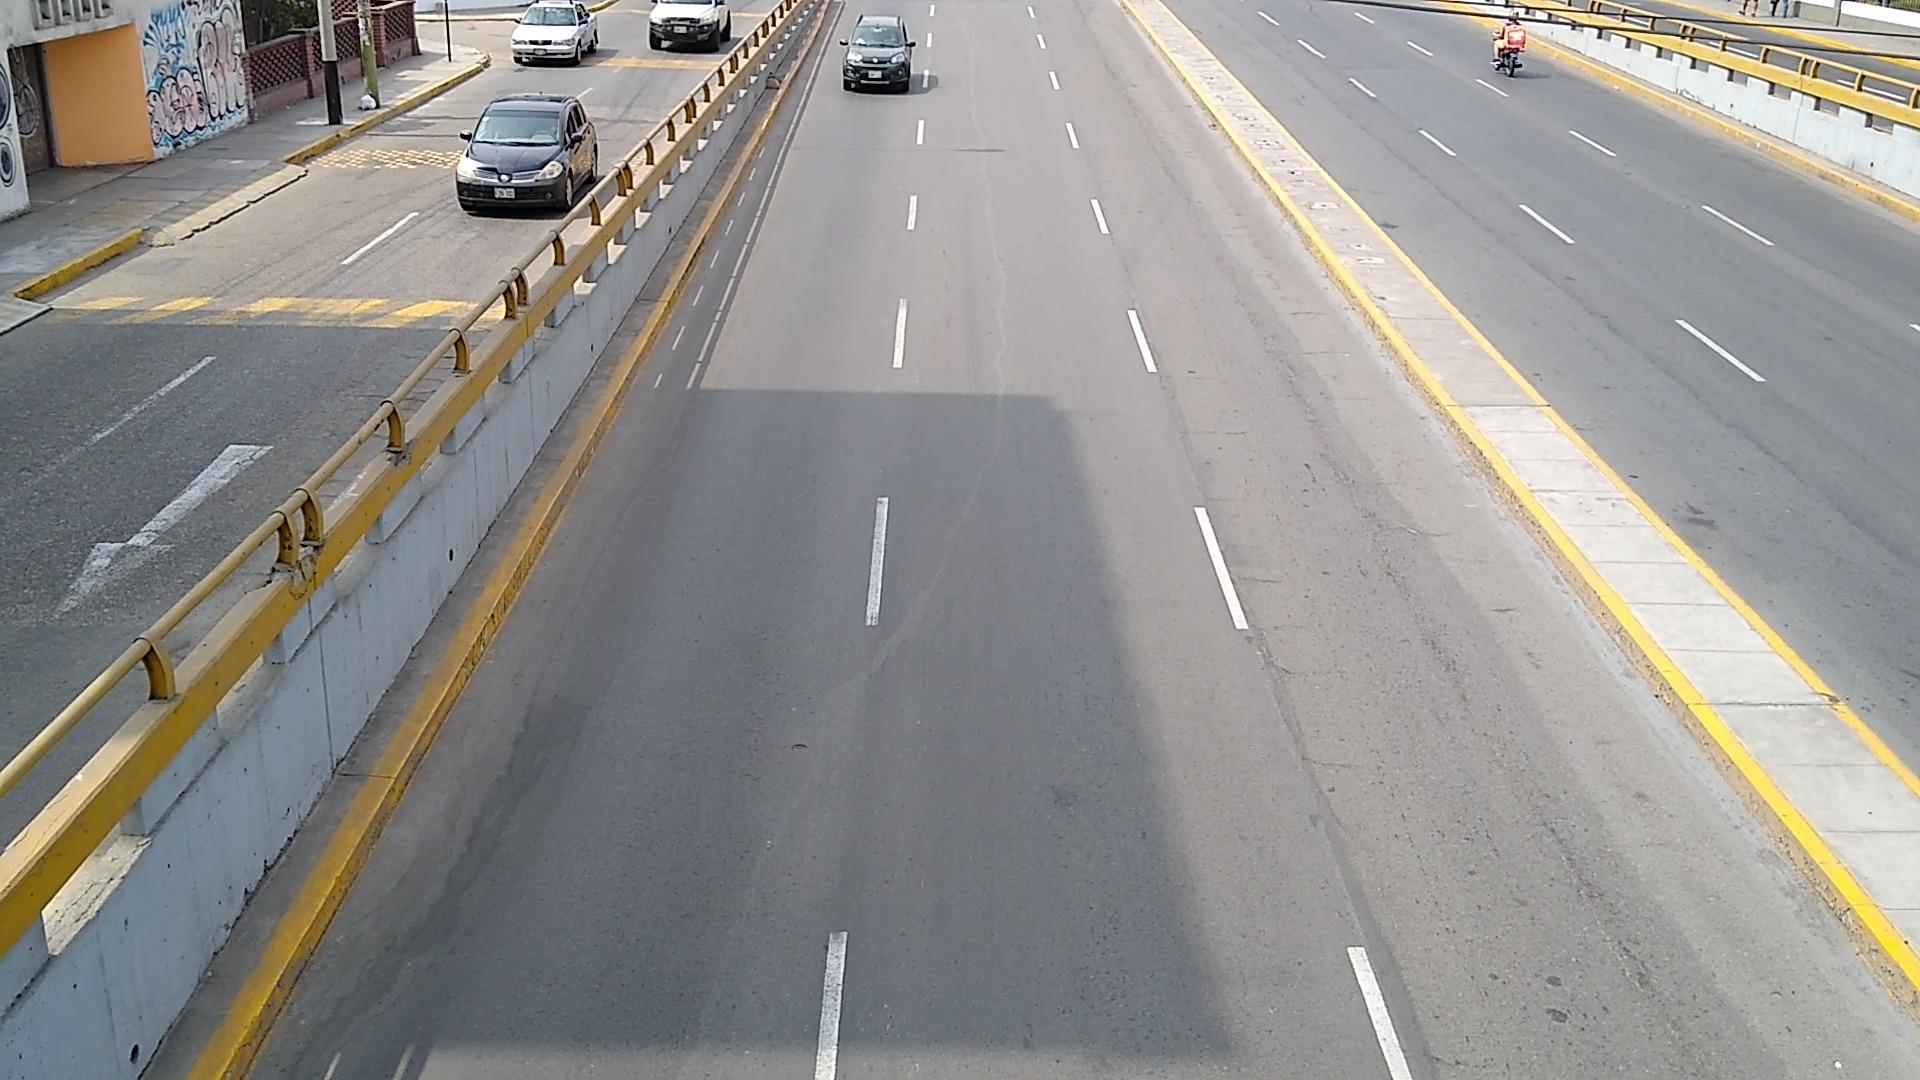car: (454, 94, 600, 210), (840, 15, 915, 90), (514, 0, 600, 62), (649, 0, 732, 49)
motorcyclist: (1493, 15, 1526, 75)
